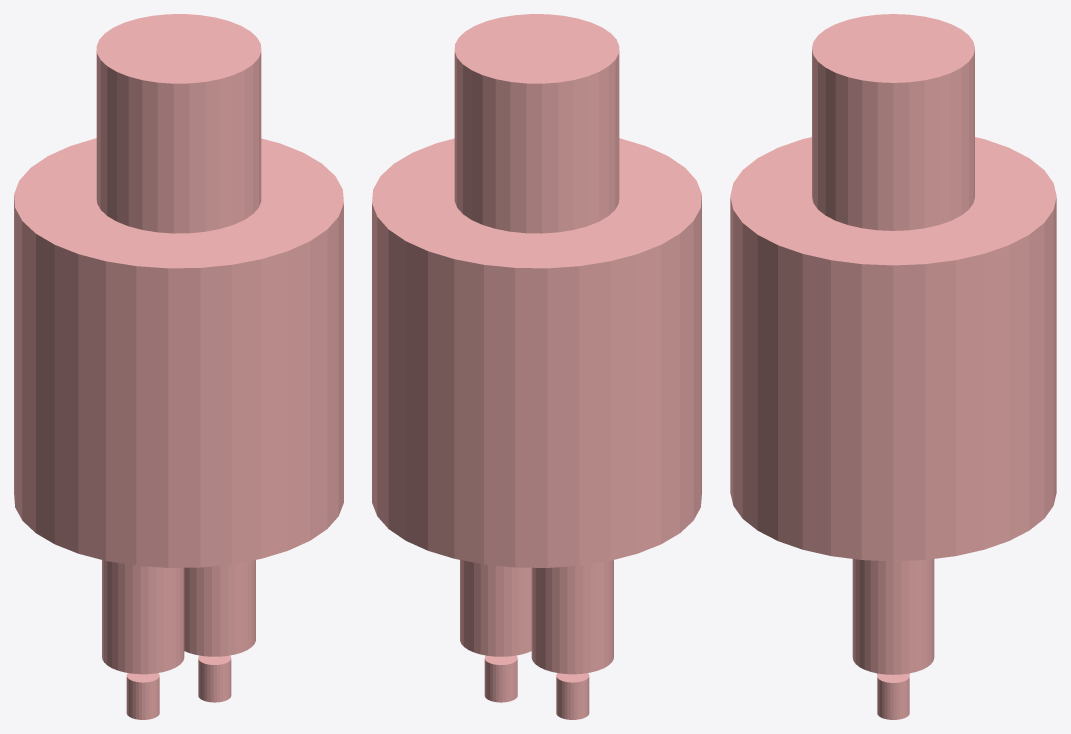
Rendered from 20260311_193139_pink_robot_blue.glb.
The picture shows the model from 3 angles, left to right: view 1: azimuth 30°, elevation 25°; view 2: azimuth 150°, elevation 25°; view 3: azimuth 270°, elevation 25°; orthographic projection.
Visible parts, largest first — view 1: Cylinder, Cylinder.001, Cylinder.006, Cylinder.007, Cylinder.002, Cylinder.009, Cylinder.008, Cylinder.003; view 2: Cylinder, Cylinder.001, Cylinder.006, Cylinder.007, Cylinder.009, Cylinder.008, Cylinder.002; view 3: Cylinder, Cylinder.001, Cylinder.007, Cylinder.003, Cylinder.009.
Part boxes in pixels (x1,y1,x2,y2): Cylinder: [14, 138, 343, 567]; Cylinder.001: [96, 14, 261, 233]; Cylinder.006: [102, 560, 184, 674]; Cylinder.007: [184, 560, 255, 656]; Cylinder.002: [31, 207, 108, 385]; Cylinder.009: [198, 655, 231, 702]; Cylinder.008: [126, 673, 159, 719]; Cylinder.003: [261, 155, 319, 189]; Cylinder: [372, 138, 701, 567]; Cylinder.001: [454, 14, 619, 233]; Cylinder.006: [531, 560, 613, 674]; Cylinder.007: [460, 560, 531, 656]; Cylinder.009: [484, 655, 517, 702]; Cylinder.008: [556, 673, 589, 719]; Cylinder.002: [603, 207, 685, 383]; Cylinder: [730, 137, 1056, 561]; Cylinder.001: [812, 14, 974, 230]; Cylinder.007: [852, 559, 934, 674]; Cylinder.003: [853, 231, 934, 413]; Cylinder.009: [877, 673, 909, 719].
Bounding box in the file's own units: 4 × 8.75 × 4.
